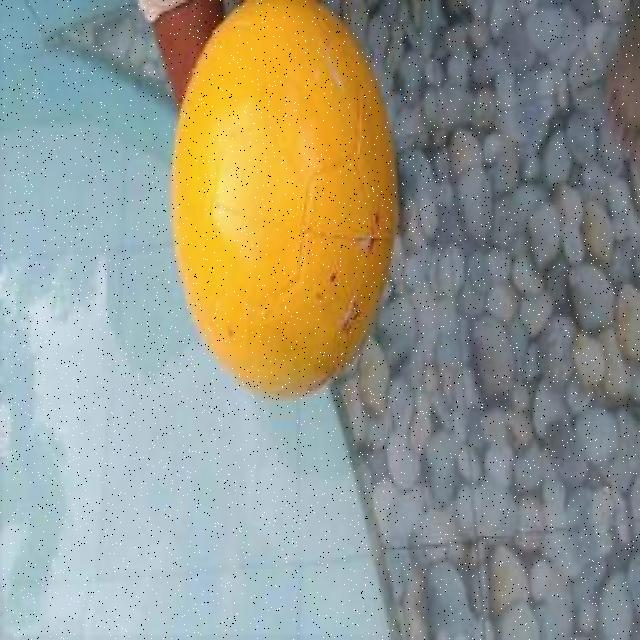buoy: (170, 3, 396, 397)
